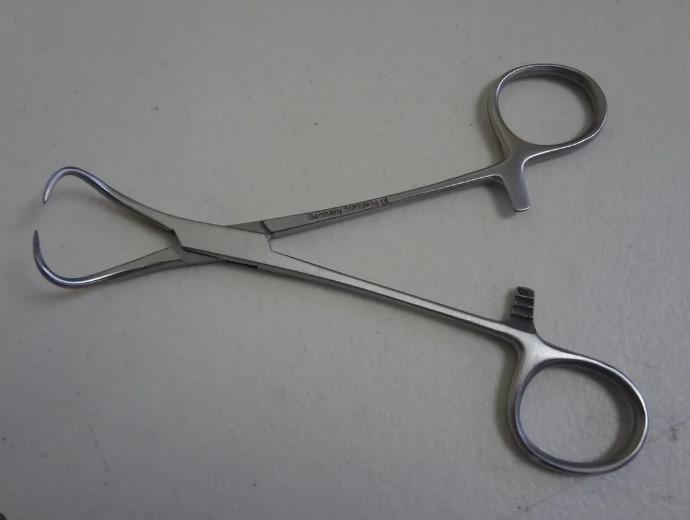Backhaus: (30, 56, 660, 479)
